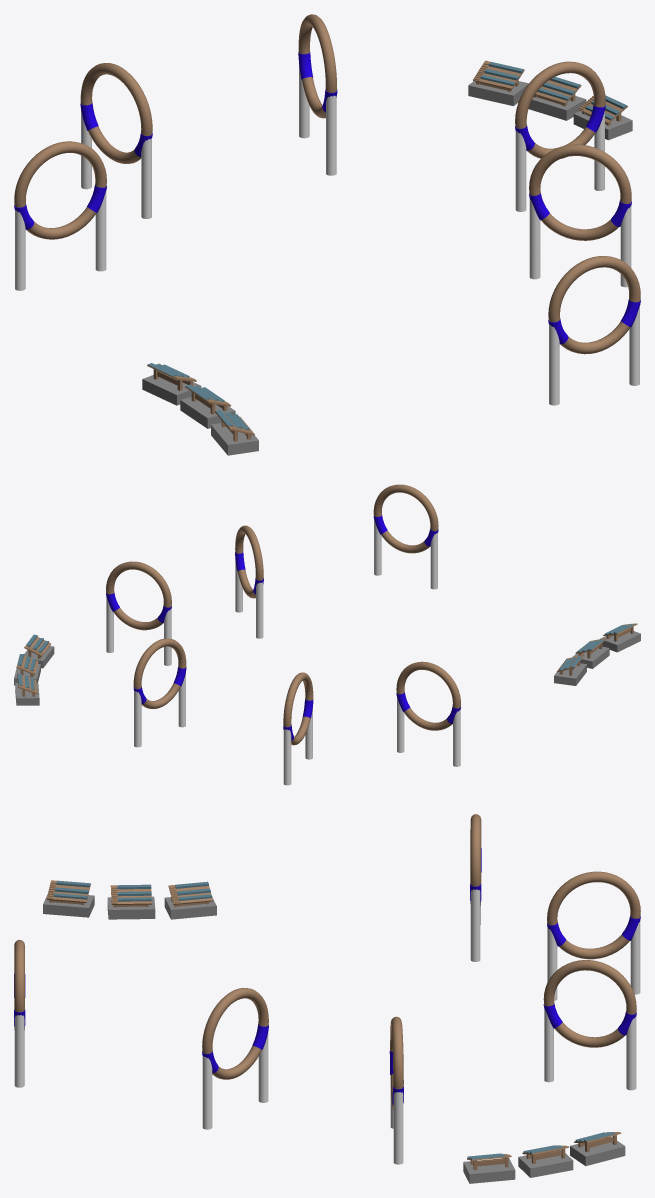
Rendered from batching_test.glb.
3 renders of one model, top to bottom at view 1: azimuth 30°, elevation 25°; view 2: azimuth 150°, elevation 25°; view 3: azimuth 270°, elevation 25°, orthographic. The views are drawn at different scales.
Visible parts, largest first — view 1: Torus.001, Torus.005, Torus, Torus.002, Torus.004, Torus.003, Seats.003, Seats.004, Seats, Seats.002, Seats.001, Seats.005; view 2: Torus, Torus.005, Torus.002, Torus.003, Torus.004, Torus.001, Seats, Seats.002, Seats.003, Seats.001, Seats.005, Seats.004; view 3: Torus.003, Torus.004, Torus.001, Torus.002, Torus.005, Torus, Seats.002, Seats, Seats.001, Seats.004, Seats.003, Seats.005.
Boxes of the visible parts, x1=… form: Torus.001: x1=529, y1=144, x2=631, y2=287; Torus.005: x1=14, y1=141, x2=106, y2=290; Torus: x1=548, y1=256, x2=640, y2=405; Torus.002: x1=515, y1=61, x2=605, y2=211; Torus.004: x1=80, y1=63, x2=152, y2=218; Torus.003: x1=298, y1=14, x2=337, y2=175; Seats.003: x1=468, y1=60, x2=528, y2=105; Seats.004: x1=528, y1=76, x2=586, y2=120; Seats: x1=211, y1=410, x2=258, y2=455; Seats.002: x1=142, y1=363, x2=201, y2=405; Seats.001: x1=180, y1=384, x2=235, y2=428; Seats.005: x1=573, y1=95, x2=632, y2=140; Torus: x1=373, y1=484, x2=438, y2=589; Torus.005: x1=396, y1=661, x2=460, y2=766; Torus.002: x1=106, y1=561, x2=171, y2=665; Torus.003: x1=133, y1=638, x2=186, y2=747; Torus.004: x1=283, y1=672, x2=313, y2=785; Torus.001: x1=235, y1=525, x2=263, y2=638; Seats: x1=600, y1=623, x2=640, y2=652; Seats.002: x1=554, y1=654, x2=586, y2=685; Seats.003: x1=15, y1=674, x2=39, y2=705; Seats.001: x1=572, y1=638, x2=609, y2=668; Seats.005: x1=24, y1=634, x2=54, y2=668; Seats.004: x1=14, y1=654, x2=40, y2=685; Torus.003: x1=543, y1=960, x2=636, y2=1090; Torus.004: x1=547, y1=871, x2=640, y2=1000; Torus.001: x1=202, y1=988, x2=268, y2=1129; Torus.002: x1=389, y1=1016, x2=403, y2=1164; Torus.005: x1=470, y1=814, x2=481, y2=961; Torus: x1=14, y1=939, x2=25, y2=1087; Seats.002: x1=164, y1=881, x2=216, y2=919; Seats: x1=43, y1=880, x2=94, y2=917; Seats.001: x1=107, y1=884, x2=155, y2=919; Seats.004: x1=518, y1=1145, x2=573, y2=1177; Seats.003: x1=570, y1=1132, x2=625, y2=1166; Seats.005: x1=463, y1=1153, x2=515, y2=1183.
Size of the model in its own units: 126 by 25.72 by 118.
